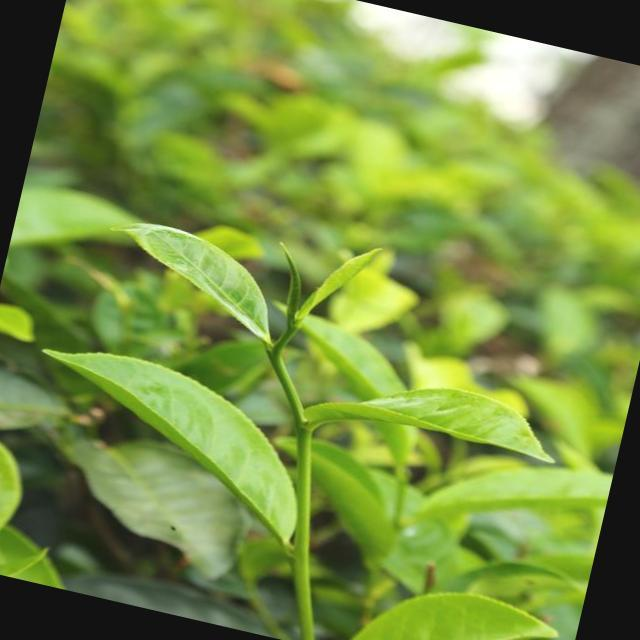Stem: (298, 420, 312, 440)
